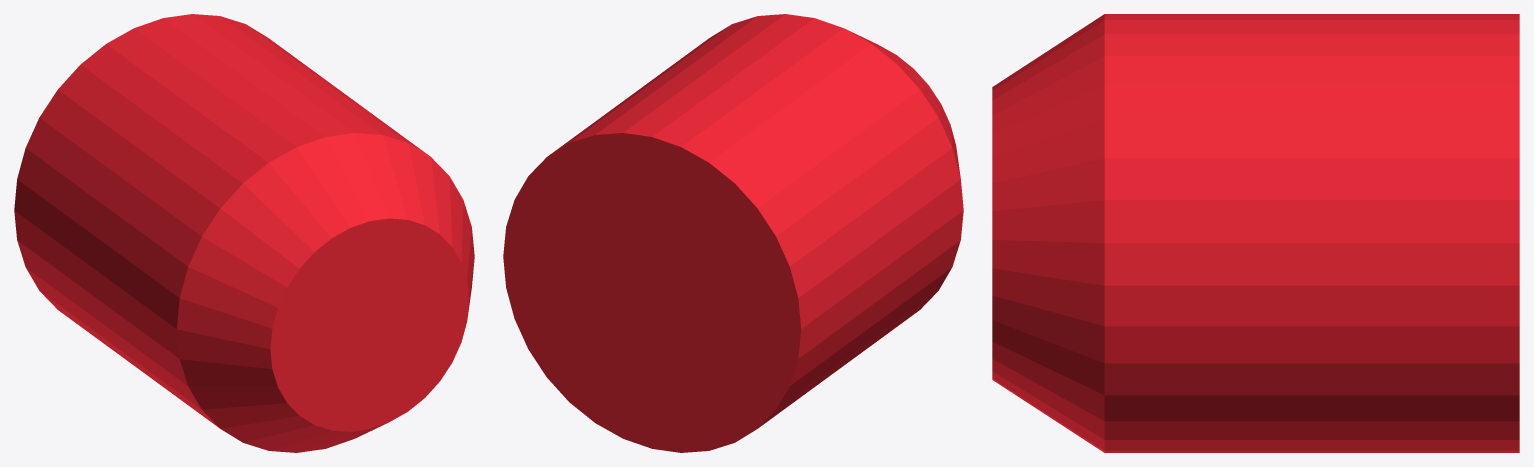
The model's file is NumDot.fbx.
3 renders of one model, left to right at view 1: azimuth 30°, elevation 25°; view 2: azimuth 150°, elevation 25°; view 3: azimuth 270°, elevation 25°, orthographic. The views are drawn at different scales.
Parts seen in each view (by area): view 1: Decimal; view 2: Decimal; view 3: Decimal.
Boxes of the visible parts, box(x1,y1,x2,y2) form: Decimal: box(14, 14, 474, 452); Decimal: box(503, 14, 963, 452); Decimal: box(992, 14, 1519, 452).
Bounding box in the file's own units: 16 × 19.21 × 16.
